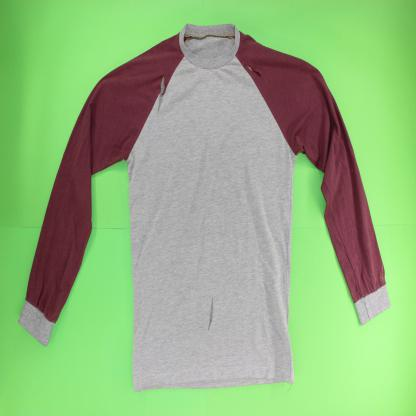hole: (156, 71, 167, 116), (207, 294, 216, 334), (245, 63, 263, 78)
